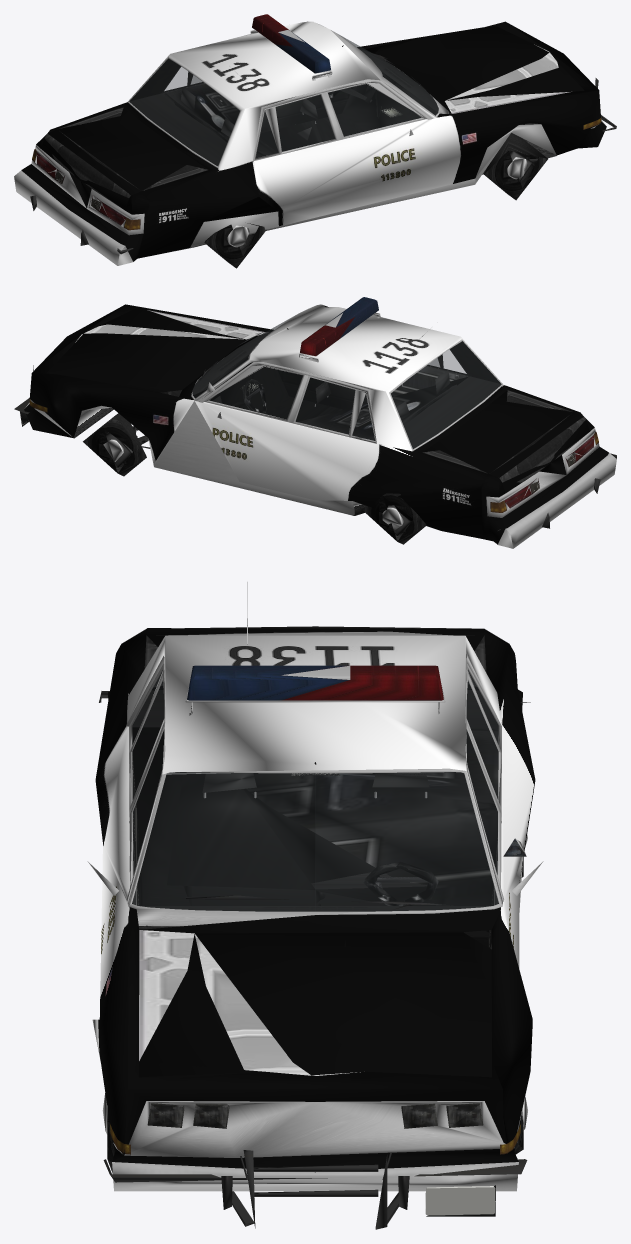
File: PoliceCar_LOD2.obj
The picture shows the model from 3 angles, top to bottom: view 1: azimuth 30°, elevation 25°; view 2: azimuth 150°, elevation 25°; view 3: azimuth 270°, elevation 25°; orthographic projection. The views are drawn at different scales.
Visible parts, largest first — view 1: Negotiator80cop_Body_Negotiator80cop_body_0, Negotiator80cop_Interior_GEN4DR_INTERIOR_0, Negotiator80cop_Hood_Negotiator80cop_body_0, Negotiator80cop_bottom_UCB_BOTTOM_0, Negotiator80cop_Trunk_door_Negotiator80cop_body_0, Negotiator80cop_Glass_back_UCB_GLASS_CLEAN_0, Negotiator80cop_Bodyglass_UCB_GLASS_CLEAN_0, Negotiator80cop_Bumper_Rear_UCB_BOTTOM_0, Negotiator80cop_Wheel_FR_RB1c_Tire_0, Negotiator80cop_Trunk_door_inner_UCB_BOTTOM_0, Negotiator80cop_Lightbar_glass_Riverside88_lights_glass_0, Negotiator80cop_Wheel_RR_RB1c_Tire_0 (+2 smaller); view 2: Negotiator80cop_Body_Negotiator80cop_body_0, Negotiator80cop_Interior_GEN4DR_INTERIOR_0, Negotiator80cop_bottom_UCB_BOTTOM_0, Negotiator80cop_Hood_Negotiator80cop_body_0, Negotiator80cop_Trunk_door_Negotiator80cop_body_0, Negotiator80cop_Glass_back_UCB_GLASS_CLEAN_0, Negotiator80cop_Bodyglass_UCB_GLASS_CLEAN_0, Negotiator80cop_Bumper_Rear_UCB_BOTTOM_0, Negotiator80cop_Wheel_FL_RB1c_Tire_0, Negotiator80cop_Trunk_door_inner_UCB_BOTTOM_0, Negotiator80cop_Wheel_RL_RB1c_Tire_0, Negotiator80cop_Lightbar_glass_Riverside88_lights_glass_0 (+2 smaller); view 3: Negotiator80cop_Body_Negotiator80cop_body_0, Negotiator80cop_Interior_GEN4DR_INTERIOR_0, Negotiator80cop_Hood_Negotiator80cop_body_0, Negotiator80cop_Windshield_UCB_GLASS_CLEAN_0, Negotiator80cop_bottom_UCB_BOTTOM_0, Negotiator80cop_Bumper_Front_UCB_BOTTOM_0, Negotiator80cop_Lightbar_glass_Riverside88_lights_glass_0, Negotiator80cop_Bodyglass_UCB_GLASS_CLEAN_0, Negotiator80cop_Headlights_Riverside88_lights_glass_0, Negotiator80cop_Trunk_door_Negotiator80cop_body_0, Negotiator80cop_Numberplate_front_Negotiator80_Misc_0, Negotiator80cop_Lightbar_UCB_BOTTOM_0 (+1 smaller).
Boxes of the visible parts, x1,y1,x2,y2 form: Negotiator80cop_Body_Negotiator80cop_body_0: (21, 21, 606, 261); Negotiator80cop_Interior_GEN4DR_INTERIOR_0: (129, 45, 438, 167); Negotiator80cop_Hood_Negotiator80cop_body_0: (375, 26, 584, 113); Negotiator80cop_bottom_UCB_BOTTOM_0: (31, 21, 600, 255); Negotiator80cop_Trunk_door_Negotiator80cop_body_0: (41, 108, 207, 210); Negotiator80cop_Glass_back_UCB_GLASS_CLEAN_0: (129, 58, 239, 165); Negotiator80cop_Bodyglass_UCB_GLASS_CLEAN_0: (191, 75, 420, 157); Negotiator80cop_Bumper_Rear_UCB_BOTTOM_0: (14, 170, 133, 265); Negotiator80cop_Wheel_FR_RB1c_Tire_0: (484, 133, 547, 200); Negotiator80cop_Trunk_door_inner_UCB_BOTTOM_0: (44, 107, 207, 207); Negotiator80cop_Lightbar_glass_Riverside88_lights_glass_0: (252, 14, 330, 73); Negotiator80cop_Wheel_RR_RB1c_Tire_0: (204, 223, 266, 268); Negotiator80cop_Body_Negotiator80cop_body_0: (24, 304, 608, 544); Negotiator80cop_Interior_GEN4DR_INTERIOR_0: (192, 305, 501, 448); Negotiator80cop_bottom_UCB_BOTTOM_0: (30, 304, 599, 517); Negotiator80cop_Hood_Negotiator80cop_body_0: (46, 309, 265, 392); Negotiator80cop_Trunk_door_Negotiator80cop_body_0: (423, 390, 589, 492); Negotiator80cop_Glass_back_UCB_GLASS_CLEAN_0: (391, 341, 501, 448); Negotiator80cop_Bodyglass_UCB_GLASS_CLEAN_0: (210, 358, 439, 440); Negotiator80cop_Bumper_Rear_UCB_BOTTOM_0: (498, 453, 616, 548); Negotiator80cop_Wheel_FL_RB1c_Tire_0: (83, 413, 146, 476); Negotiator80cop_Trunk_door_inner_UCB_BOTTOM_0: (423, 390, 586, 482); Negotiator80cop_Wheel_RL_RB1c_Tire_0: (362, 493, 426, 544); Negotiator80cop_Lightbar_glass_Riverside88_lights_glass_0: (300, 297, 378, 356); Negotiator80cop_Body_Negotiator80cop_body_0: (95, 629, 535, 1172); Negotiator80cop_Interior_GEN4DR_INTERIOR_0: (132, 690, 498, 948); Negotiator80cop_Hood_Negotiator80cop_body_0: (139, 930, 491, 1077); Negotiator80cop_Windshield_UCB_GLASS_CLEAN_0: (132, 772, 498, 911); Negotiator80cop_bottom_UCB_BOTTOM_0: (87, 582, 543, 1157); Negotiator80cop_Bumper_Front_UCB_BOTTOM_0: (103, 1150, 527, 1229); Negotiator80cop_Lightbar_glass_Riverside88_lights_glass_0: (187, 665, 443, 700); Negotiator80cop_Bodyglass_UCB_GLASS_CLEAN_0: (132, 670, 498, 874); Negotiator80cop_Headlights_Riverside88_lights_glass_0: (147, 1103, 483, 1128); Negotiator80cop_Trunk_door_Negotiator80cop_body_0: (146, 628, 484, 688); Negotiator80cop_Numberplate_front_Negotiator80_Misc_0: (425, 1186, 495, 1215); Negotiator80cop_Lightbar_UCB_BOTTOM_0: (185, 666, 445, 715).
Bounding box in the file's own units: 4.98 × 1.59 × 1.88.
Materials: 7 (5 with a texture image).
